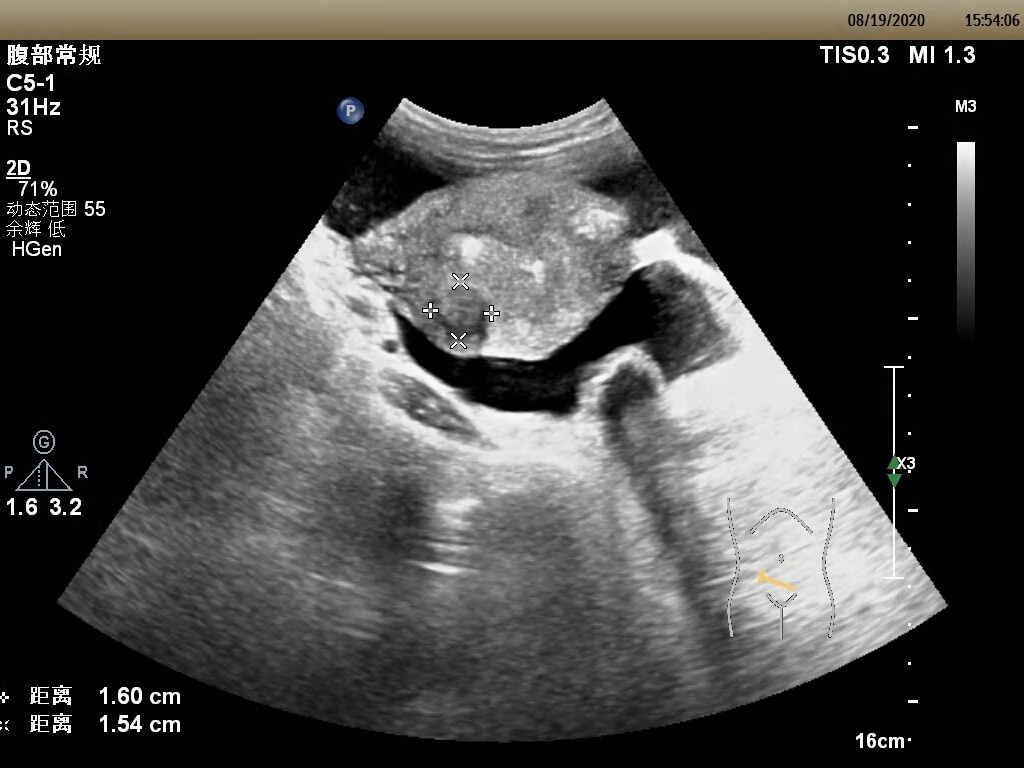肌瘤: (430, 281, 494, 343)
